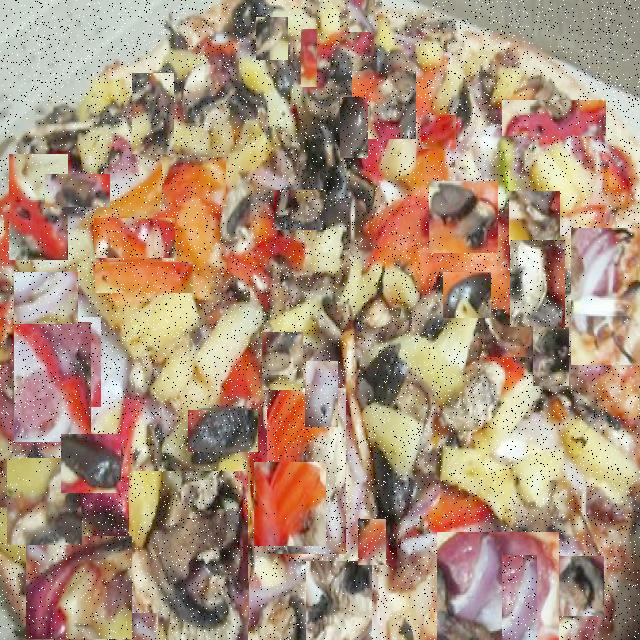Mushrooms: (130, 471, 250, 640), (268, 388, 348, 554), (7, 458, 82, 545), (306, 561, 372, 640), (429, 181, 498, 253), (510, 240, 565, 327), (352, 71, 417, 139), (17, 105, 85, 161), (132, 73, 174, 154), (550, 556, 604, 616), (548, 558, 599, 618), (184, 68, 234, 126), (509, 191, 560, 245), (527, 77, 578, 128), (262, 332, 303, 390), (484, 309, 533, 357), (533, 328, 569, 388), (46, 174, 110, 207), (274, 190, 326, 230), (223, 178, 248, 251), (256, 17, 288, 60)
Olives: (61, 434, 121, 493), (188, 410, 258, 452), (443, 272, 491, 318), (341, 97, 368, 158)
Onions: (571, 228, 640, 365), (15, 272, 78, 324), (502, 555, 537, 640), (238, 582, 291, 625), (306, 361, 338, 427), (349, 0, 375, 32)
Pepperoni: (437, 532, 559, 640), (51, 317, 101, 407), (107, 613, 158, 640)
Pizza: (0, 0, 640, 640)
Red Pepper: (26, 536, 132, 639), (14, 322, 91, 442), (10, 154, 70, 260), (254, 462, 326, 546), (222, 237, 302, 306), (502, 100, 606, 136), (94, 218, 175, 258), (162, 158, 226, 208), (95, 262, 193, 293), (358, 519, 386, 565), (421, 115, 456, 149), (301, 29, 317, 87)
